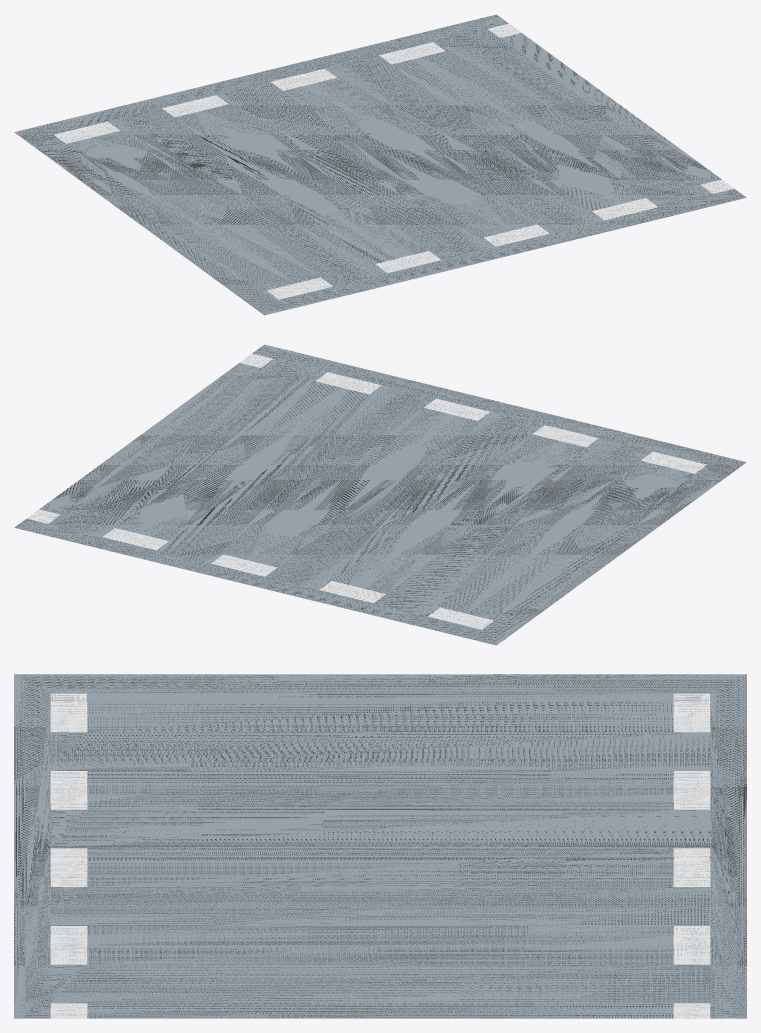
File: pedestrian_crossing_start.fbx
3 renders of one model, top to bottom at view 1: azimuth 30°, elevation 25°; view 2: azimuth 150°, elevation 25°; view 3: azimuth 270°, elevation 25°, orthographic. The views are drawn at different scales.
Parts seen in each view (by area): view 1: Model; view 2: Model; view 3: Model.
Boxes of the visible parts, left/top/right/bottom form: Model: left=14, top=14, right=746, bottom=315; Model: left=14, top=344, right=746, bottom=645; Model: left=14, top=674, right=746, bottom=1018.
Size of the model in its own units: 4.45 by 0 by 4.
